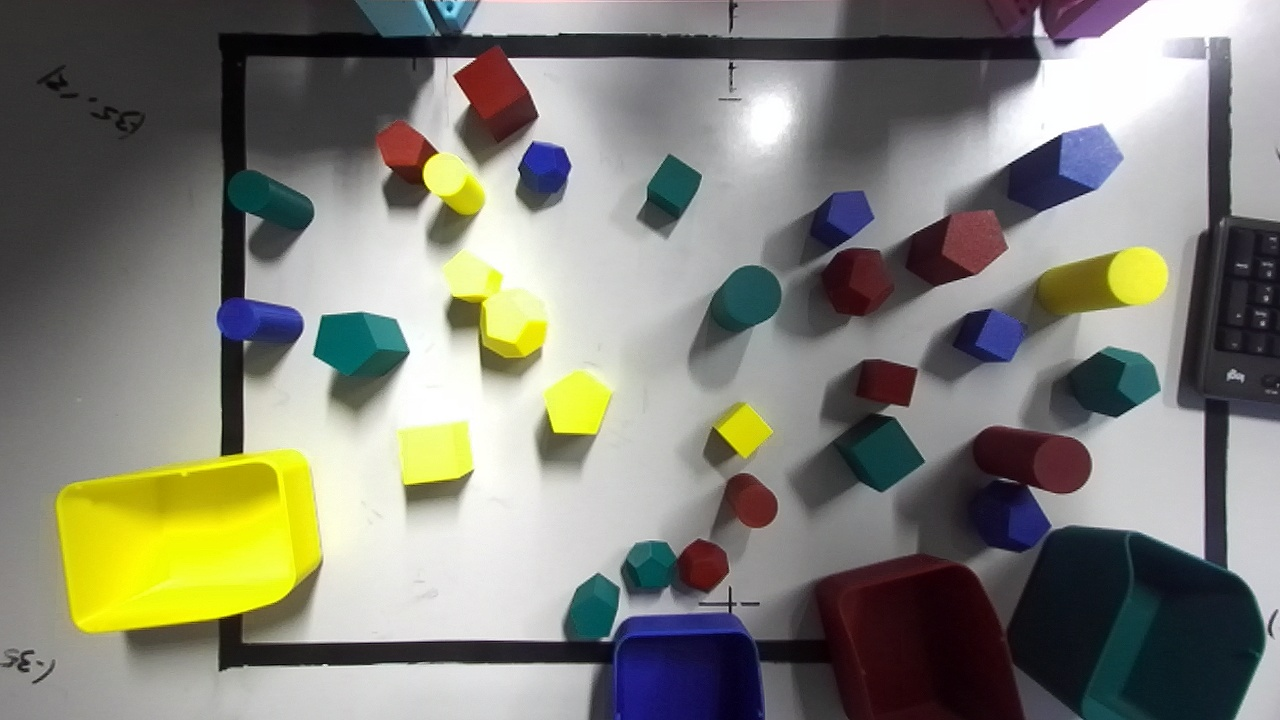bin: (1009, 527, 1264, 719), (56, 449, 320, 632), (816, 554, 1023, 719), (612, 613, 763, 719)
cube: (453, 46, 537, 141), (832, 413, 924, 491), (397, 422, 472, 485), (953, 309, 1026, 361), (647, 155, 701, 218), (712, 403, 772, 457), (855, 359, 916, 406)
cylinder: (1036, 247, 1167, 314), (972, 426, 1091, 493), (226, 169, 313, 229), (709, 265, 781, 331), (216, 297, 302, 343), (423, 152, 484, 214), (724, 473, 777, 527)
dodecahedron: (1068, 347, 1159, 416), (969, 479, 1050, 551), (822, 248, 894, 315), (480, 289, 547, 357), (677, 539, 729, 592), (518, 141, 570, 193), (621, 540, 676, 589)
hexagonal: (1007, 125, 1122, 210), (906, 210, 1007, 284), (314, 312, 408, 377), (543, 370, 611, 434), (376, 120, 436, 183), (810, 190, 874, 247), (566, 573, 619, 639), (443, 250, 502, 302)
